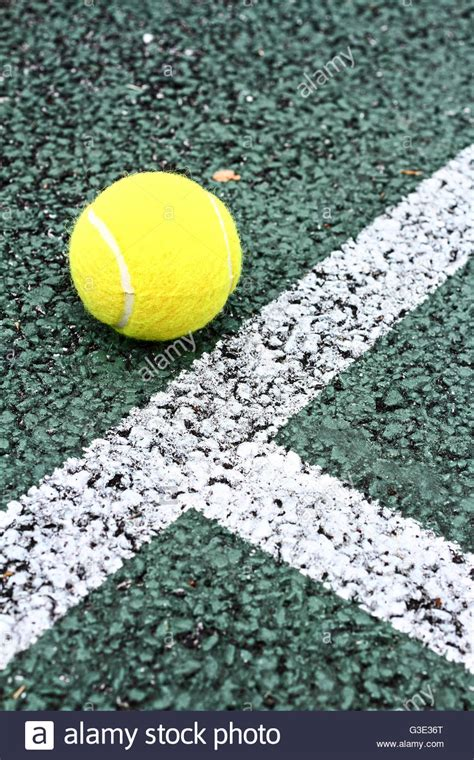tennis_ball: (68, 169, 242, 340)
